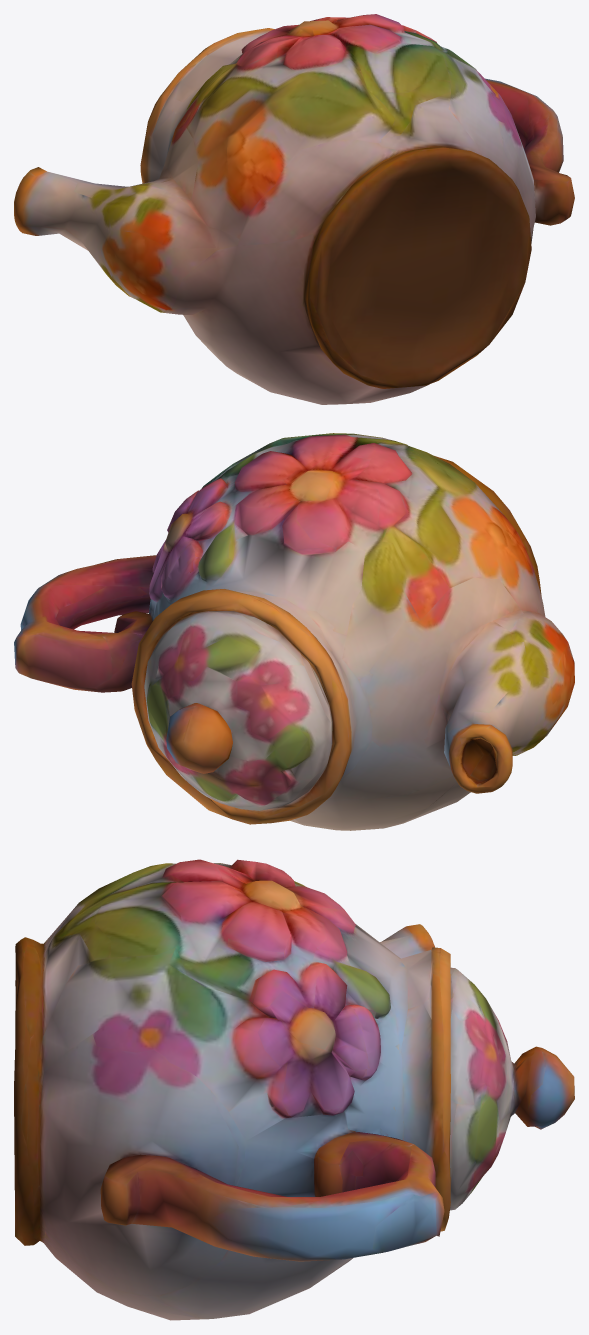
The picture shows the model from 3 angles, top to bottom: view 1: azimuth 30°, elevation 25°; view 2: azimuth 150°, elevation 25°; view 3: azimuth 270°, elevation 25°; orthographic projection. The views are drawn at different scales.
Visible parts, largest first — view 1: material; view 2: material; view 3: material.
Boxes of the visible parts, <box> form: material: <box>14,14,574,404</box>; material: <box>14,433,574,830</box>; material: <box>14,859,574,1320</box>.
Size of the model in its own units: 1 by 0.689 by 0.8303.
Materials: 1 (1 with a texture image).
